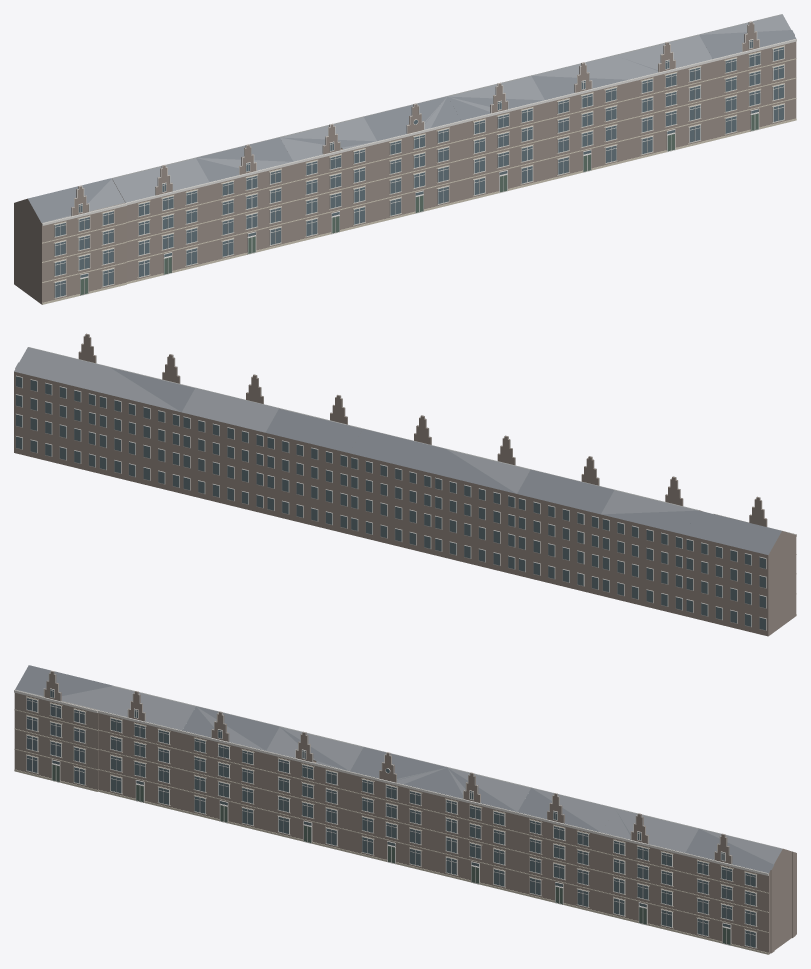
Rendered from chunk-face-marnix-c.glb.
3 renders of one model, top to bottom at view 1: azimuth 30°, elevation 25°; view 2: azimuth 150°, elevation 25°; view 3: azimuth 330°, elevation 25°, orthographic.
Visible parts, largest first — view 1: face-marnix-c; view 2: face-marnix-c; view 3: face-marnix-c.
Boxes of the visible parts, x1,y1,x2,y2 form: face-marnix-c: (14, 14, 796, 304); face-marnix-c: (14, 333, 796, 636); face-marnix-c: (14, 665, 796, 954).
Bounding box in the file's own units: 125 × 17.38 × 8.51.
